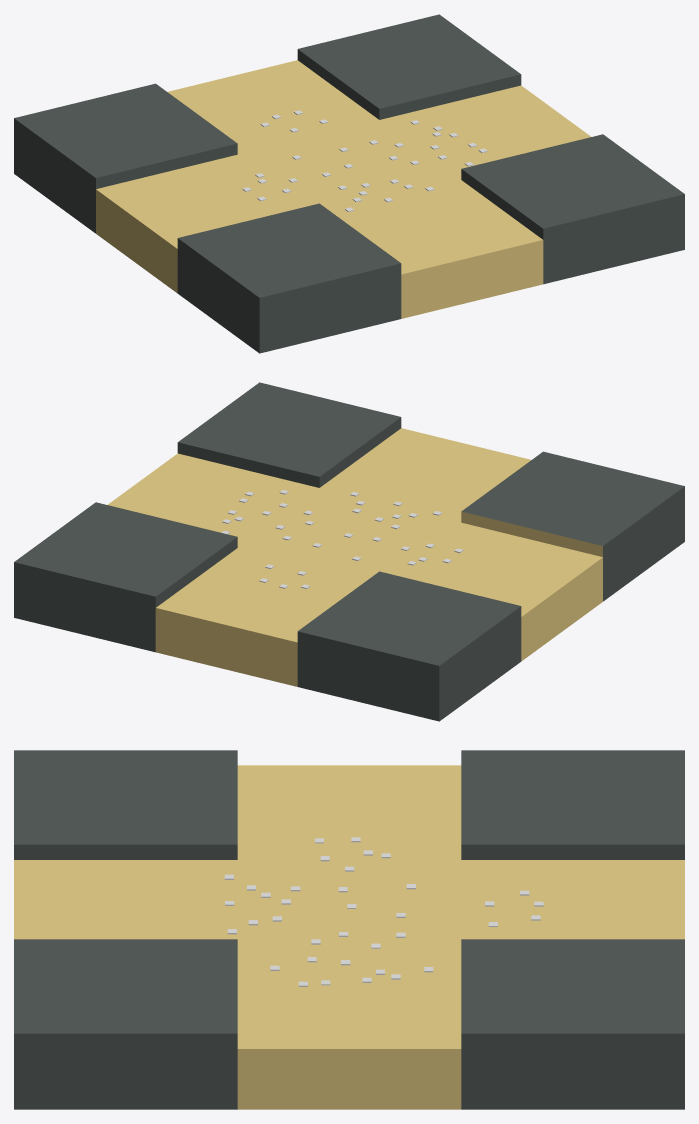
Rendered from Jalan_4Way 1.fbx.
The picture shows the model from 3 angles, top to bottom: view 1: azimuth 30°, elevation 25°; view 2: azimuth 150°, elevation 25°; view 3: azimuth 270°, elevation 25°; orthographic projection. The views are drawn at different scales.
Parts seen in each view (by area): view 1: Cube; view 2: Cube; view 3: Cube.
Boxes of the visible parts, <box> form: Cube: <box>14,14,684,353</box>; Cube: <box>14,382,684,721</box>; Cube: <box>14,750,684,1109</box>.
Size of the model in its own units: 200 by 25 by 200.
